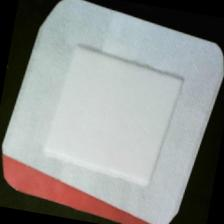Dressing: (1, 1, 224, 224)
Red_T: (1, 150, 185, 224)
